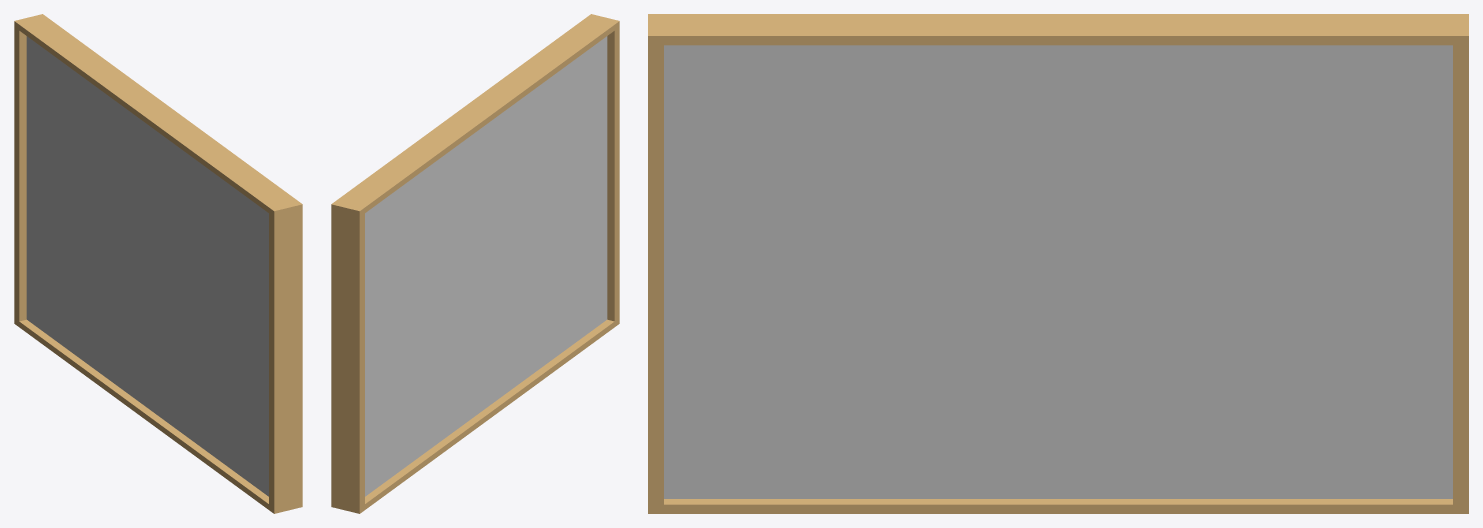
The model's file is Monitor.fbx.
3 views of the same model, side by side, from view 1: azimuth 30°, elevation 25°; view 2: azimuth 150°, elevation 25°; view 3: azimuth 270°, elevation 25° (orthographic). The views are drawn at different scales.
Parts seen in each view (by area): view 1: Glass, Cube; view 2: Glass, Cube; view 3: Glass, Cube.
Part boxes in pixels (x1,y1,x2,y2): Glass: (26, 36, 268, 496); Cube: (14, 14, 302, 513); Glass: (365, 36, 607, 496); Cube: (331, 14, 619, 513); Glass: (664, 45, 1452, 498); Cube: (648, 14, 1468, 513).
Bounding box in the file's own units: 820 × 8299 × 12919.
